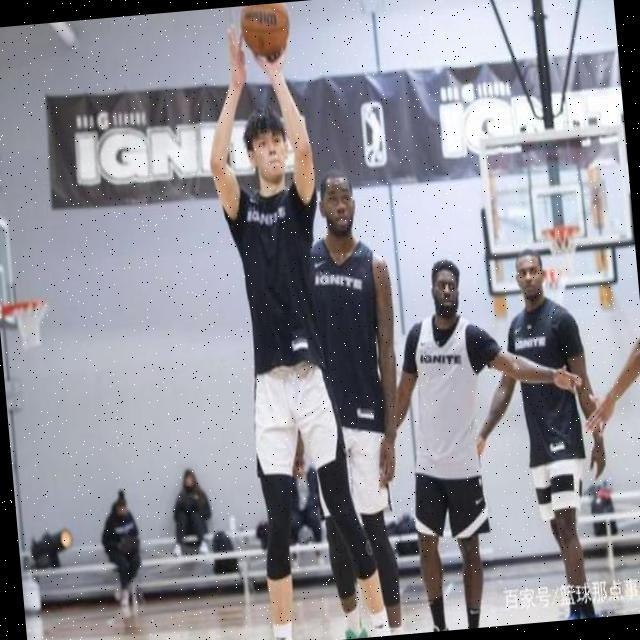ball: (240, 2, 291, 58)
